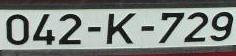-: (140, 25, 155, 33), (87, 26, 101, 34)
0: (5, 14, 30, 46)
2: (57, 13, 83, 45), (184, 12, 209, 43)
4: (32, 13, 57, 46)
7: (157, 12, 185, 45)
9: (211, 11, 234, 43)
K: (106, 12, 137, 44)
